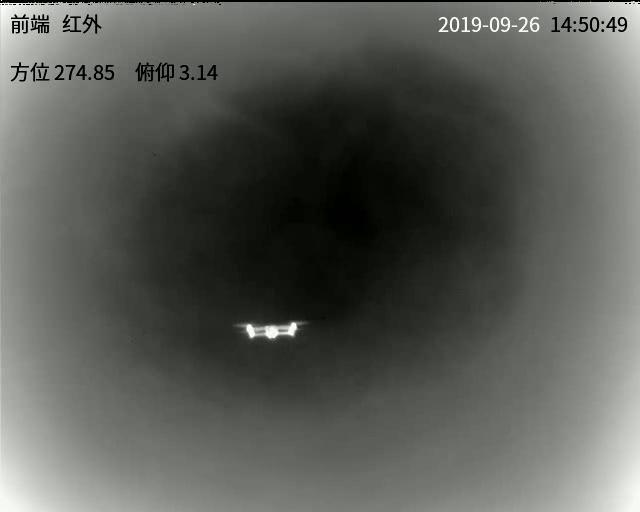DRONE: (239, 321, 302, 339)
